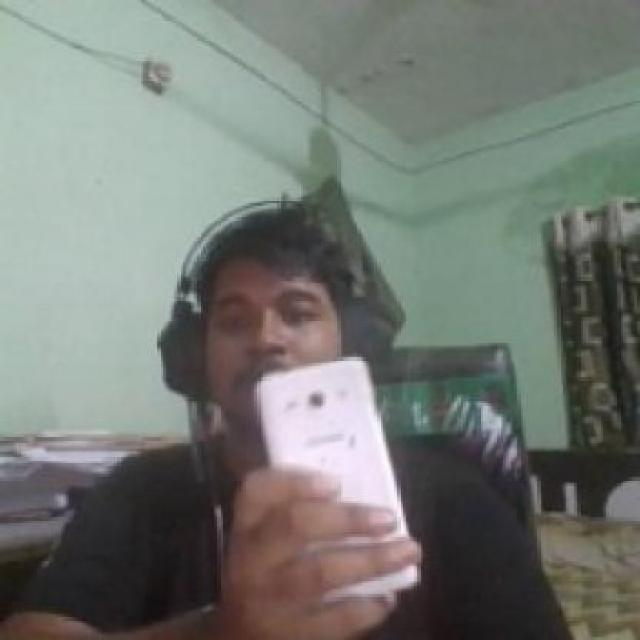Phone: (257, 358, 422, 592)
